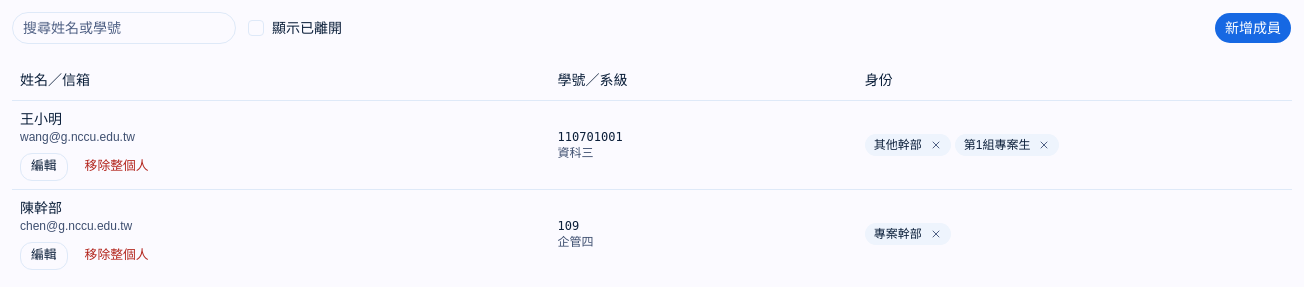
Test: MembersSection（管理員頁成員區塊） › 用姓名或學號搜尋
Type "陳" into the search field labelled "搜尋姓名或學號". click: (124,28)
box: [12, 12, 236, 44]
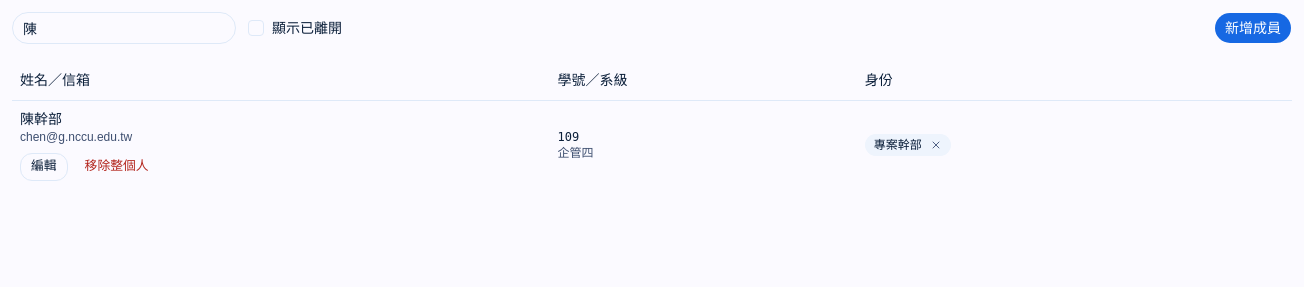
Expected: the text "陳幹部" is shown, [20, 110, 62, 126]
Replace the text in the search field named "搜尋姓名或學號" with "110701". click: (124,28)
box: [12, 12, 236, 44]
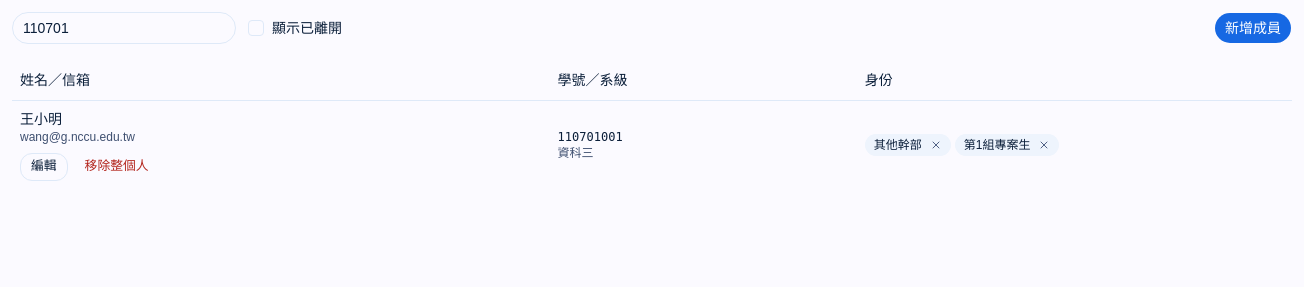
Result: the text "王小明" is shown at [20, 110, 62, 126]
Result: the text "陳幹部" is gone
Replace the text in the search field named "搜尋姓名或學號" with "沒有". click: (124,28)
box: [12, 12, 236, 44]
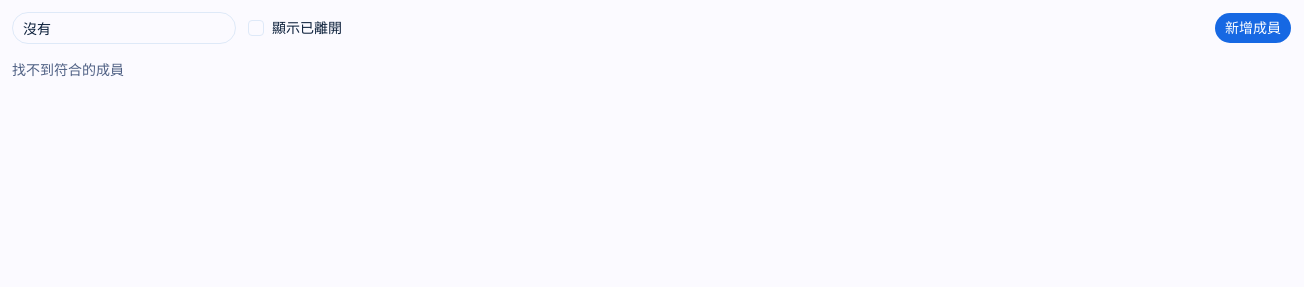
Result: the text "找不到符合的成員" is shown at [12, 62, 124, 78]
